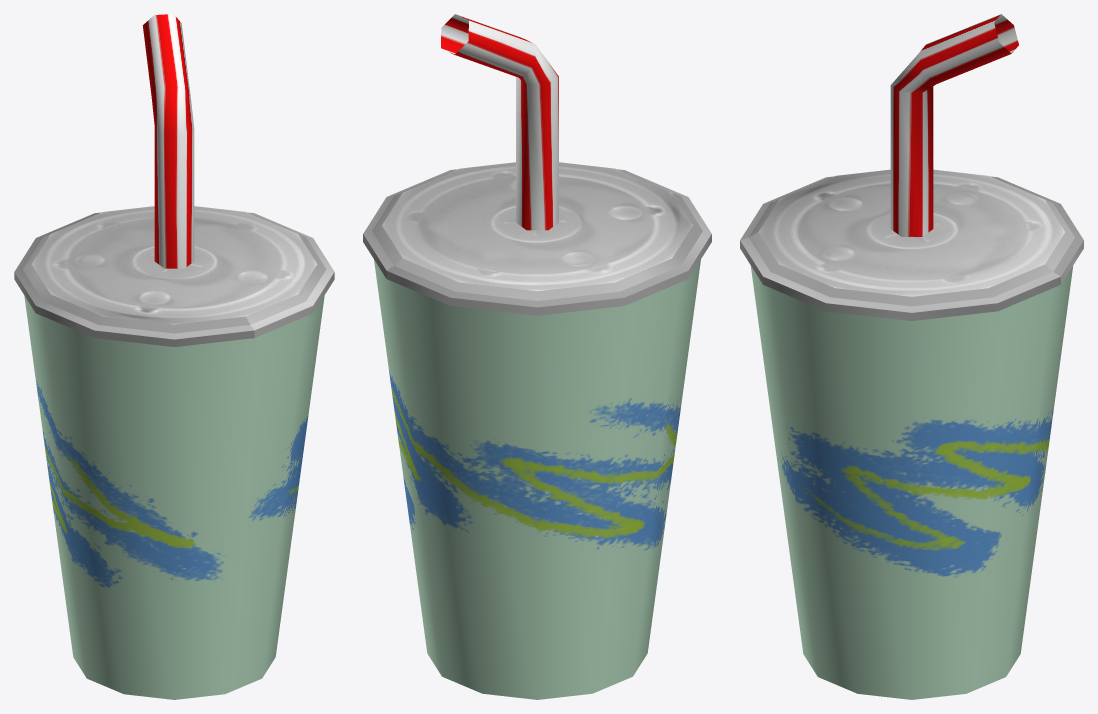
The model's file is Milkshake_mesh.fbx.
The picture shows the model from 3 angles, left to right: view 1: azimuth 30°, elevation 25°; view 2: azimuth 150°, elevation 25°; view 3: azimuth 270°, elevation 25°; orthographic projection. The views are drawn at different scales.
Visible parts, largest first — view 1: Milkshake_mesh; view 2: Milkshake_mesh; view 3: Milkshake_mesh.
Part boxes in pixels (x1,y1,x2,y2): Milkshake_mesh: (14, 14, 334, 699); Milkshake_mesh: (363, 14, 711, 699); Milkshake_mesh: (740, 14, 1083, 699).
Bounding box in the file's own units: 48.05 × 100 × 48.05.
